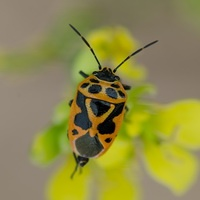insect: (68, 24, 157, 177)
